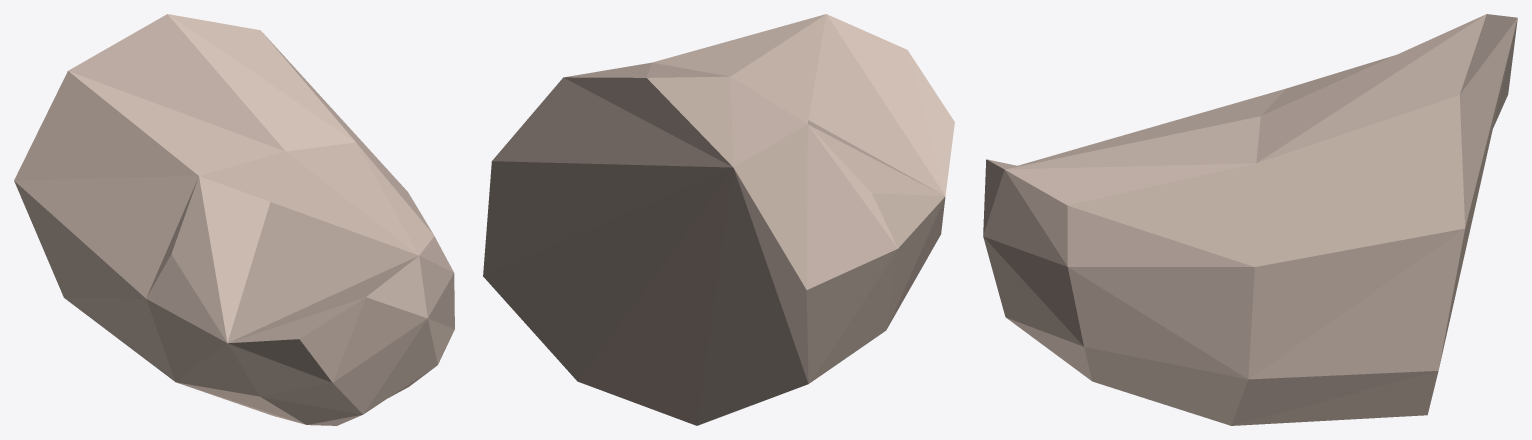
File: RBaby3rdPhalange.dae
The picture shows the model from 3 angles, left to right: view 1: azimuth 30°, elevation 25°; view 2: azimuth 150°, elevation 25°; view 3: azimuth 270°, elevation 25°; orthographic projection. The views are drawn at different scales.
Parts seen in each view (by area): view 1: ShapeIndexedFaceSet; view 2: ShapeIndexedFaceSet; view 3: ShapeIndexedFaceSet.
Part boxes in pixels (x1,y1,x2,y2): ShapeIndexedFaceSet: [14, 14, 454, 425]; ShapeIndexedFaceSet: [483, 14, 954, 425]; ShapeIndexedFaceSet: [983, 14, 1517, 425].
Bounding box in the file's own units: 0.0144 × 0.0184 × 0.0145.
